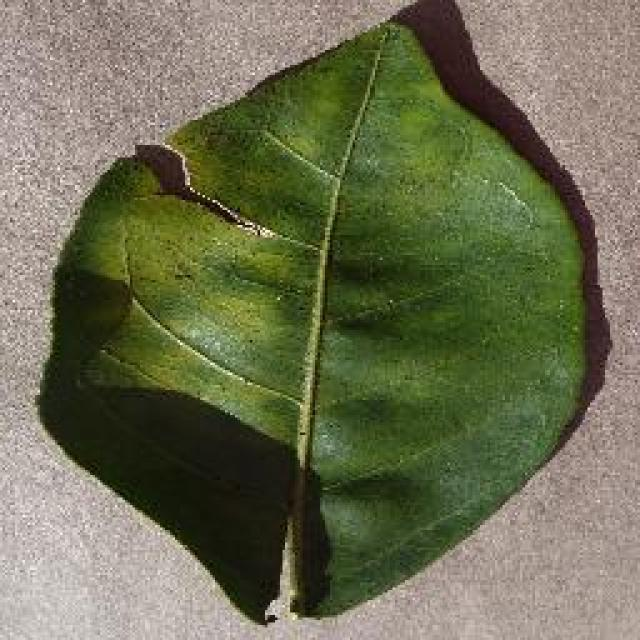Orange_Haunglongbing_Citrus_greening: (101, 117, 576, 578)
